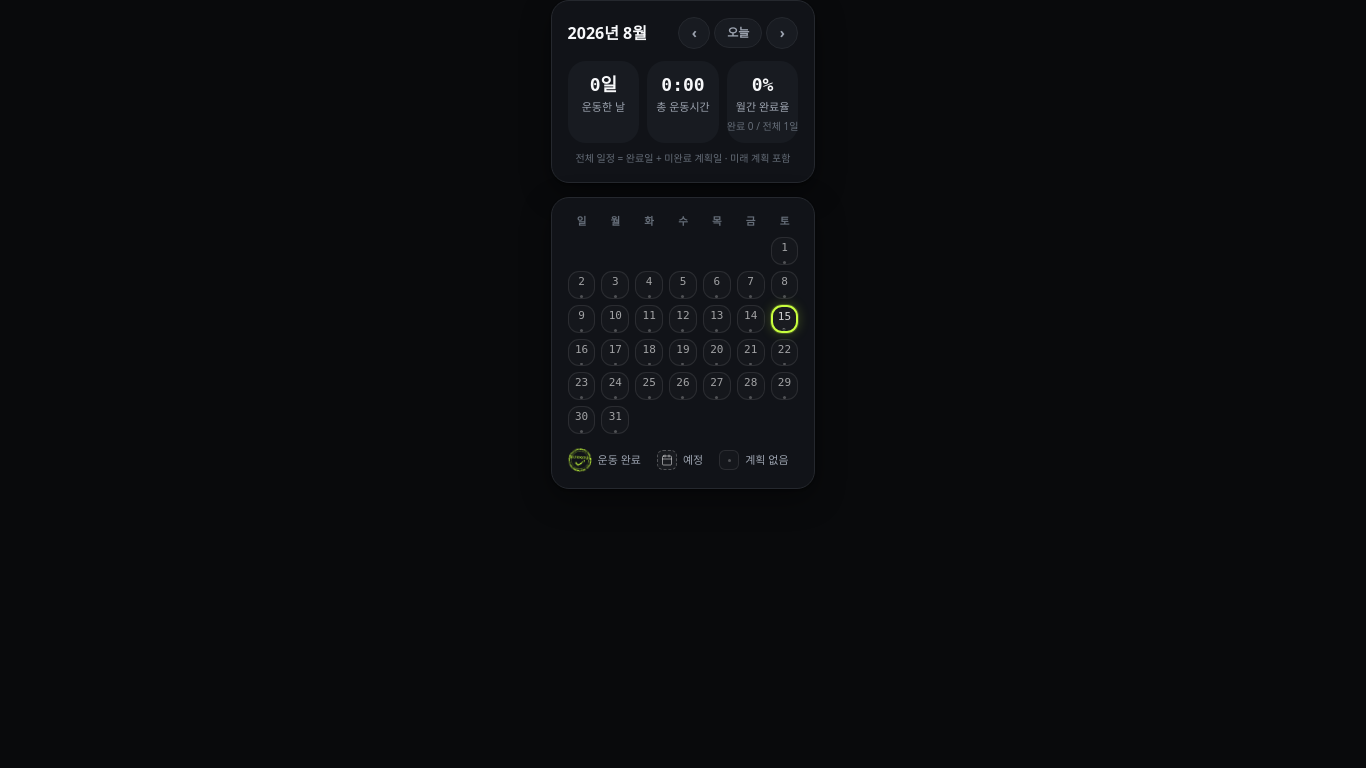
Test: CalendarView — 지난 계획은 기록으로 남는다 (2026-10-07) › 오늘 계획은 그날이 끝날 때까지 수정·삭제·날짜 이동이 그대로다
Expected: the heading "2026년 8월" is shown, [568,21,647,45]
Click the button named "8월 15일,": (784, 319) [771,305,798,333]
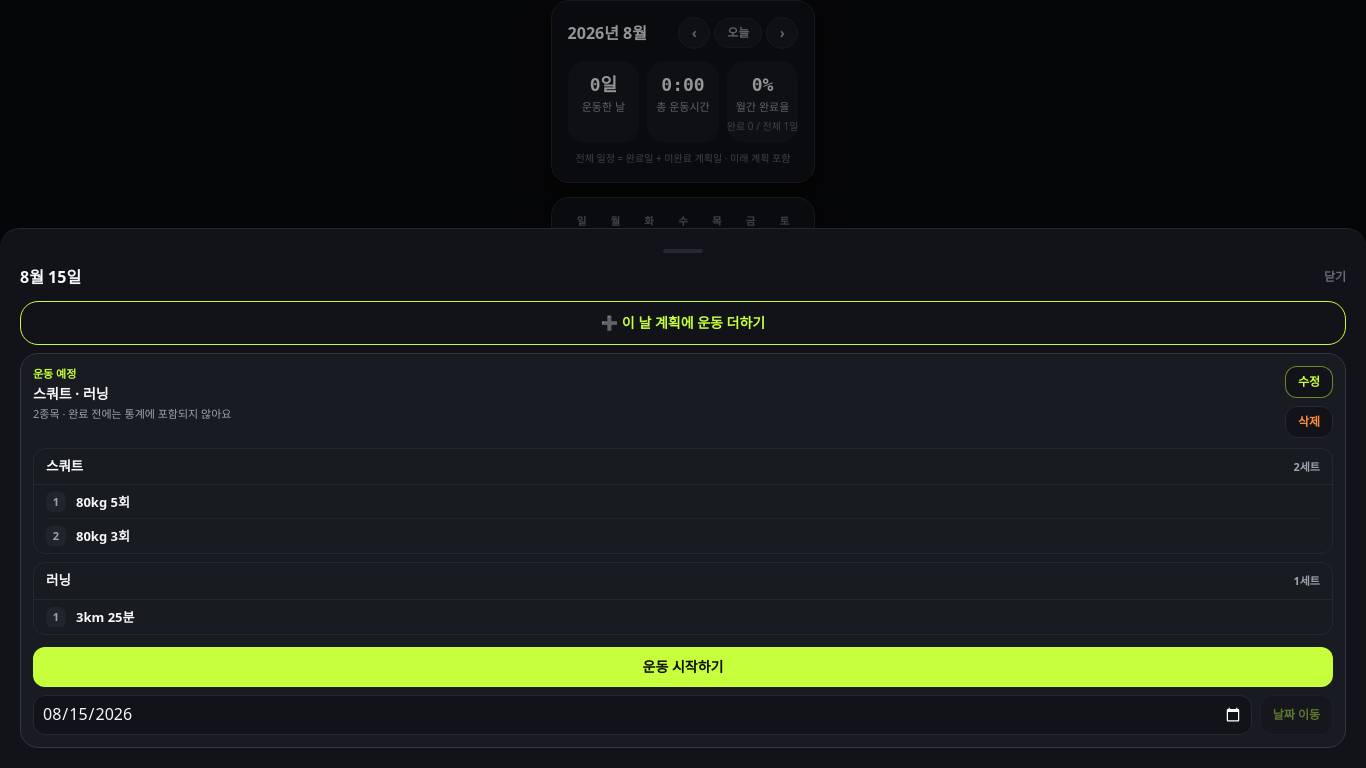
Expected: the button "수정" is shown, [1285,366,1333,398]
Expected: the button "삭제" is shown, [1285,406,1333,438]
Expected: the button "날짜 이동" is shown, [1260,695,1333,735]
